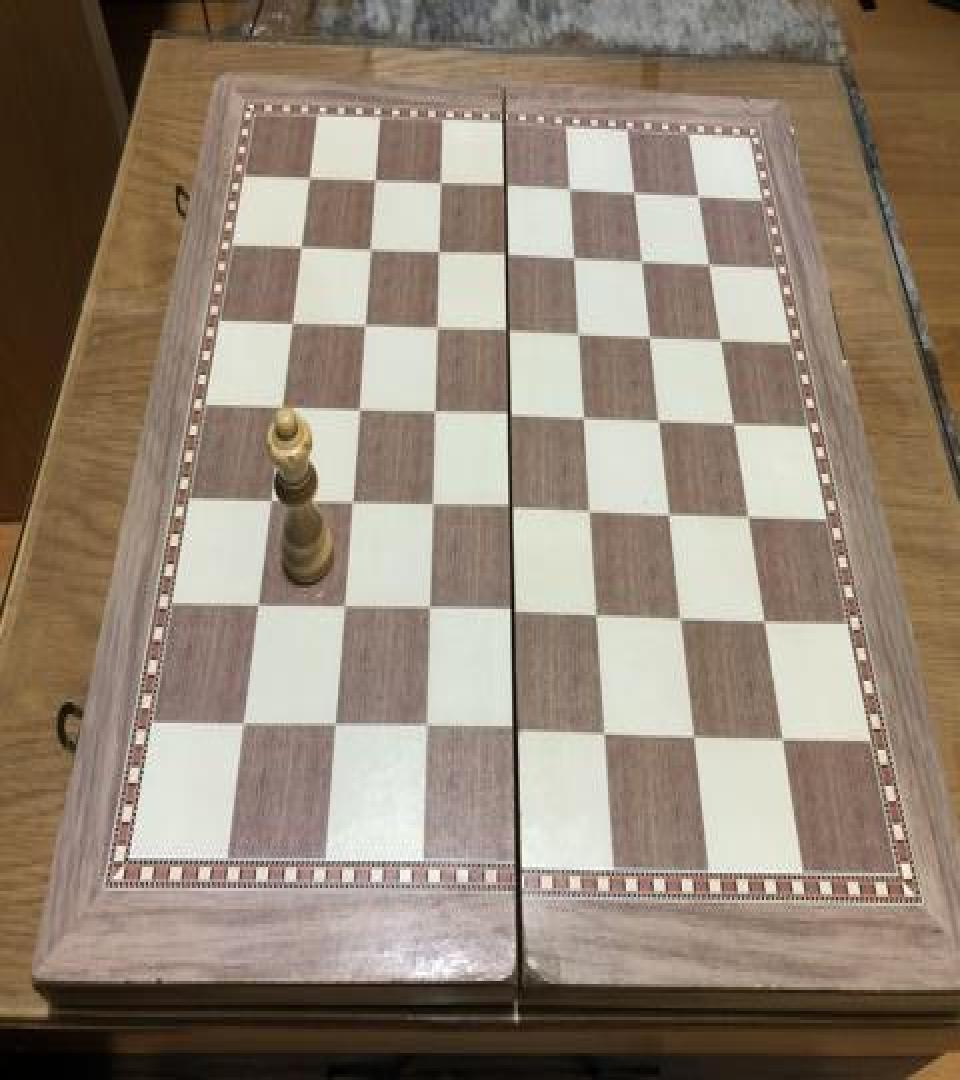xcorner: (773, 727, 797, 764), (505, 718, 529, 755), (324, 712, 348, 749), (693, 180, 717, 216), (628, 177, 652, 213), (563, 174, 587, 210), (498, 171, 522, 207), (432, 168, 456, 204), (366, 165, 390, 201), (301, 162, 325, 198), (703, 250, 727, 286), (635, 248, 659, 284), (567, 243, 591, 279), (498, 240, 522, 276), (430, 237, 454, 273), (361, 234, 385, 270), (292, 231, 316, 267), (714, 326, 738, 362), (643, 322, 667, 358), (571, 320, 595, 356), (499, 316, 523, 352), (427, 314, 451, 350), (355, 310, 379, 346), (283, 308, 307, 344), (727, 411, 751, 447), (652, 408, 676, 444), (576, 405, 600, 441), (501, 402, 525, 438), (425, 398, 449, 434), (349, 394, 373, 430), (272, 392, 296, 428), (740, 504, 764, 540), (661, 501, 685, 537), (582, 498, 606, 534), (502, 495, 526, 531), (422, 492, 446, 528), (341, 489, 365, 525), (261, 486, 285, 522), (756, 609, 780, 645), (672, 606, 696, 642), (588, 603, 612, 639), (503, 600, 527, 636), (418, 597, 442, 633), (333, 594, 357, 630), (248, 591, 272, 627), (684, 724, 708, 760), (595, 722, 619, 758), (415, 716, 439, 752), (233, 710, 257, 746)
